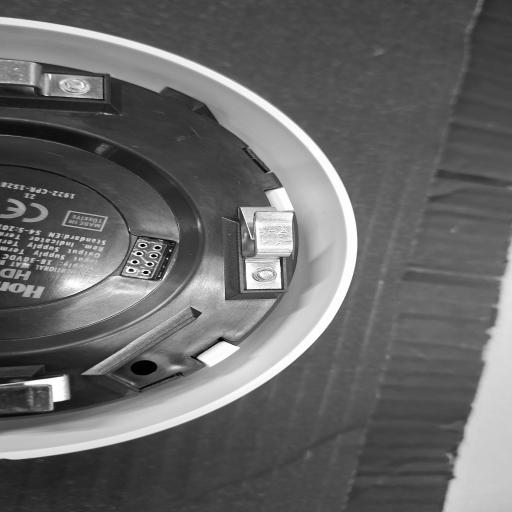yayli: (221, 200, 312, 301)
